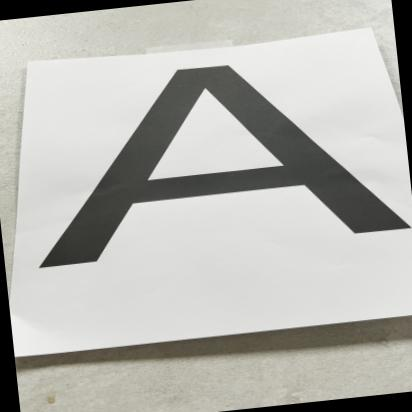seat: (11, 30, 412, 290)
